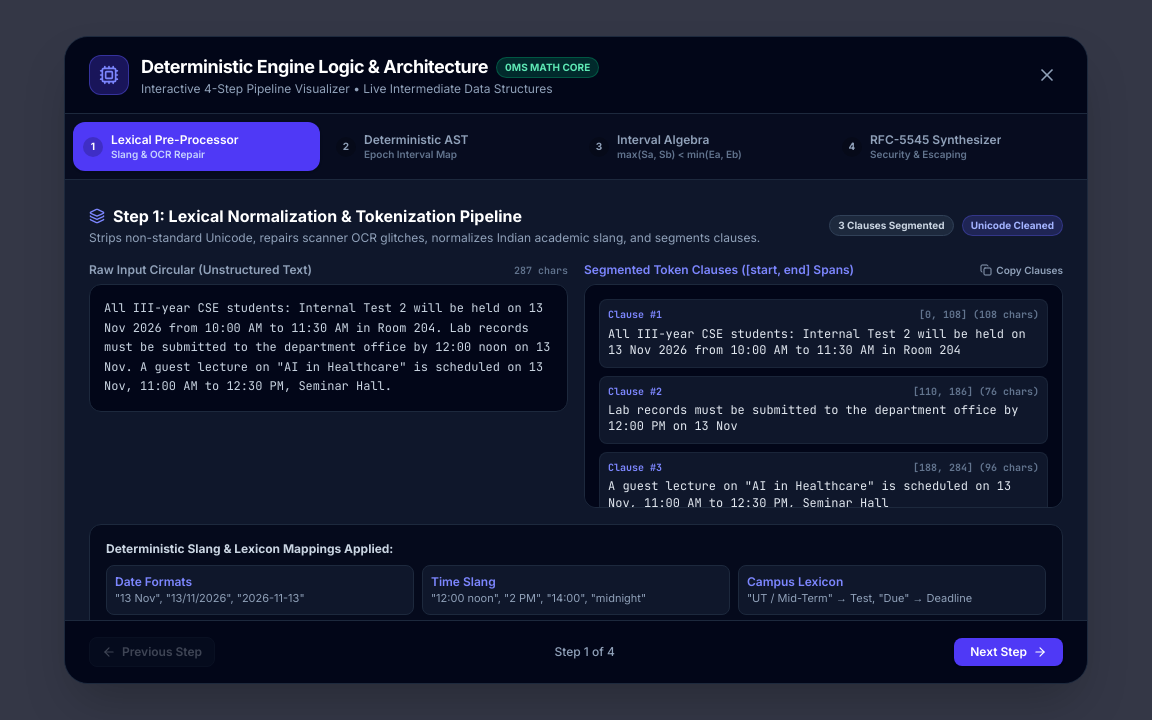
Scenario: AlgorithmExplainerModal — 4-Step Deterministic Pipeline Visualizer › Step 3: Displays Interval Algebra formulas max(Sa, Sb) < min(Ea, Eb) and Se <= Td <= Ee
# Click step 3 tab
Click the button with id "explainer-step-3-btn" at (702, 147), box [579,122,826,171]
(page scrolled)
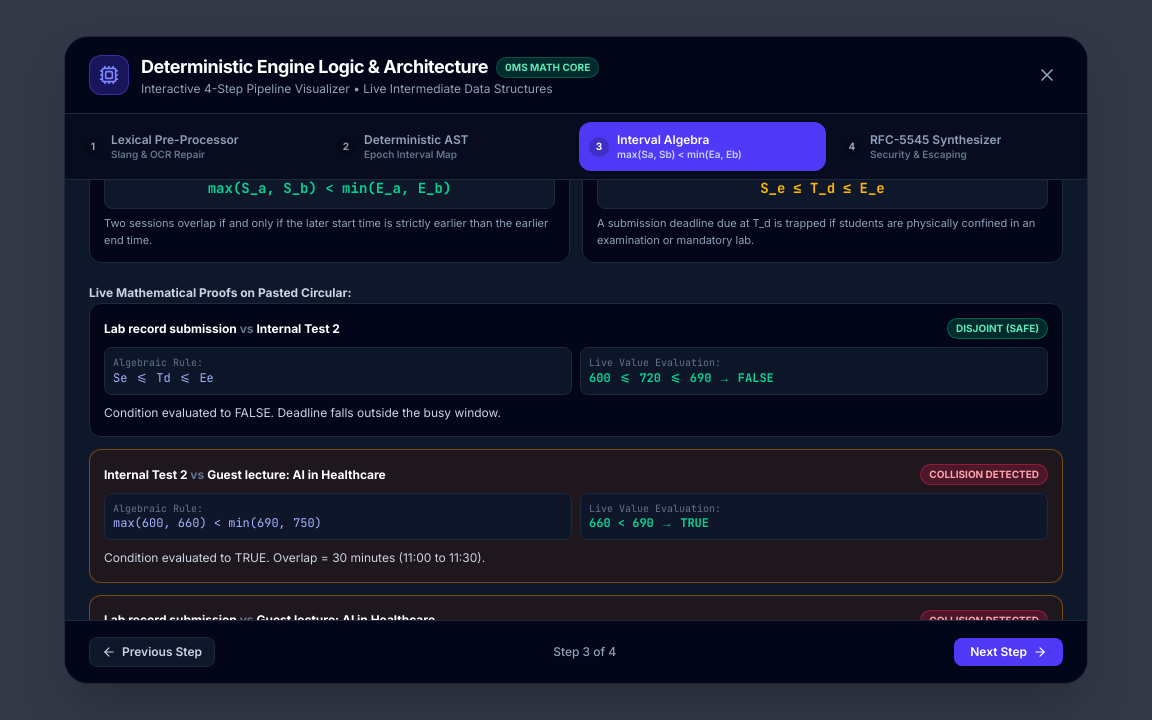
Expected: the element with id "explainer-step-3-content" shows "max(S_a, S_b) < min(E_a, E_b)", [208,180,451,197]
Expected: the element with id "explainer-step-3-content" shows "S_e ≤ T_d ≤ E_e", [760,180,885,197]
Expected: the element with id "explainer-step-3-content" shows "Live Mathematical Proofs", [89,285,351,300]
